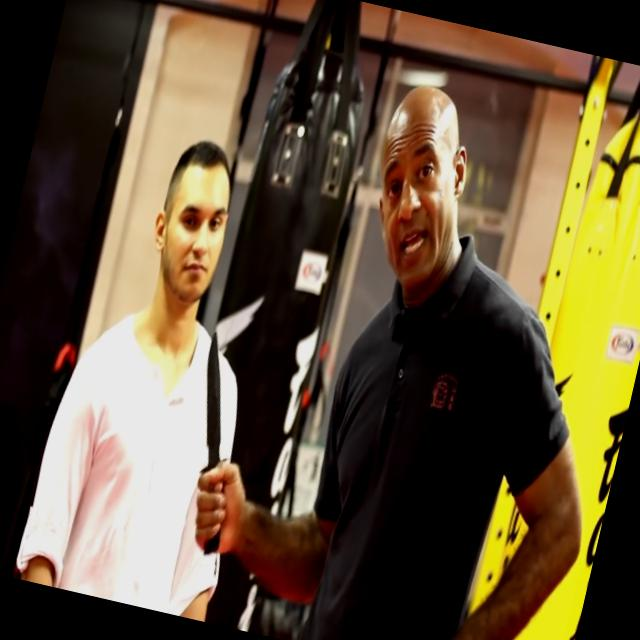knife: (154, 314, 277, 569)
